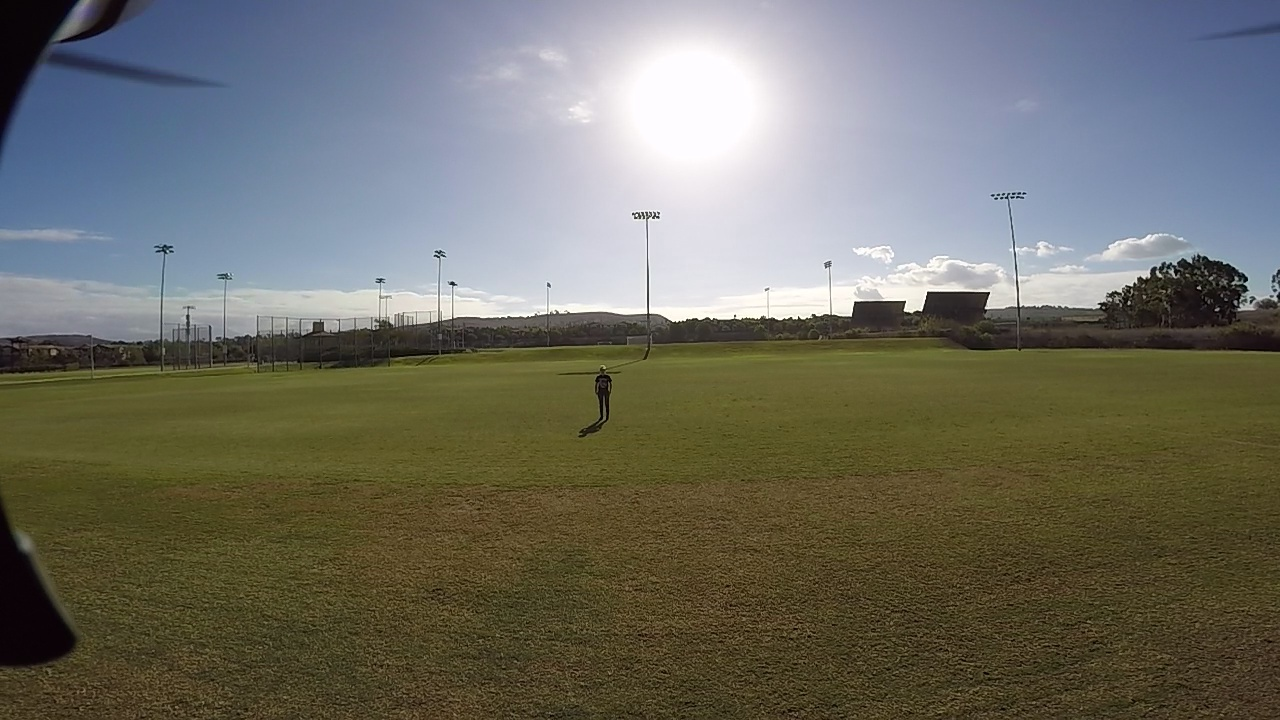person: (579, 362, 609, 426)
